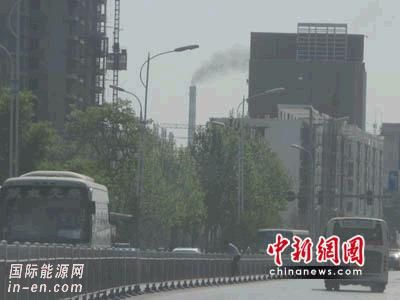dust: (186, 44, 249, 85)
